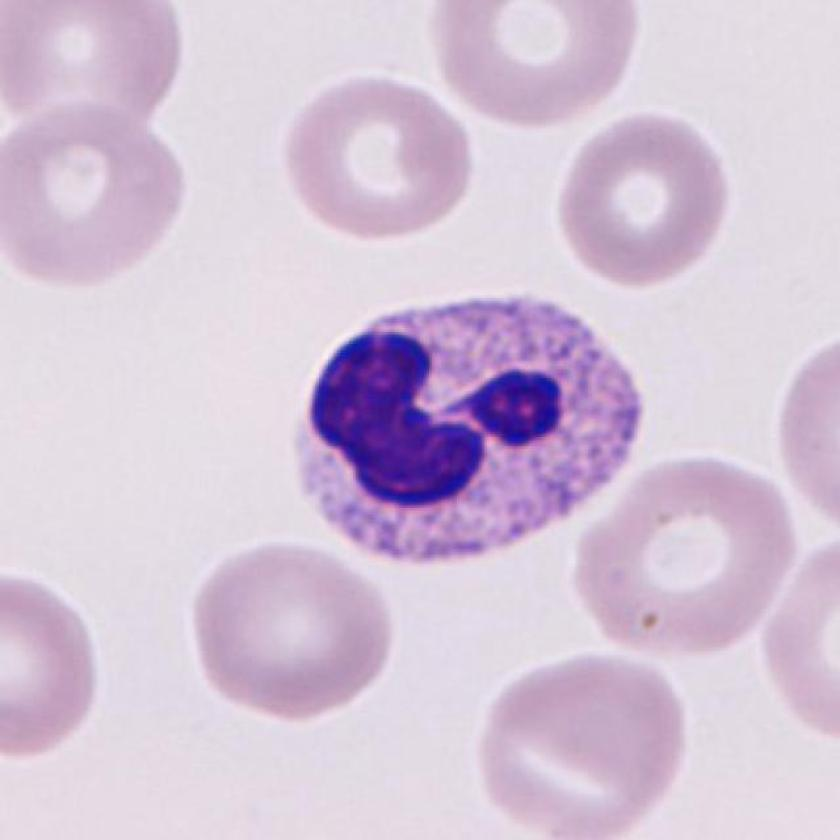neutrophil: (299, 292, 644, 568)
